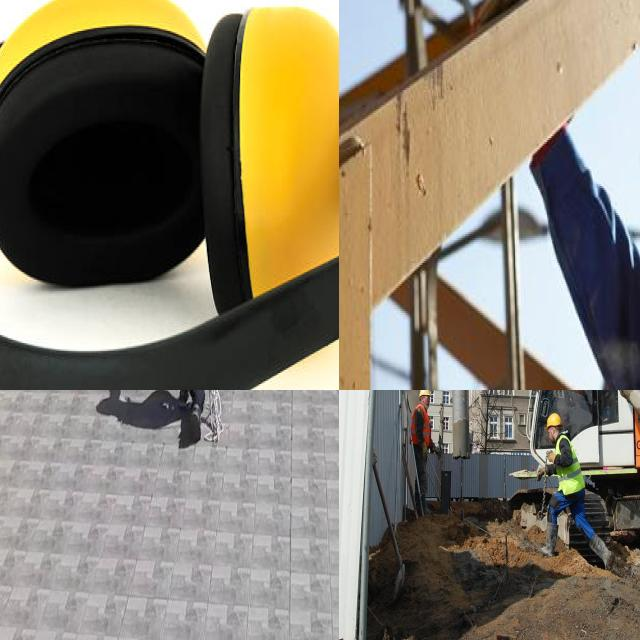Ear-protection: (0, 0, 339, 390)
boots: (588, 532, 619, 575), (537, 521, 558, 558)
hand_glove: (419, 439, 432, 462), (432, 439, 445, 458)
hand_noglove: (547, 447, 554, 465)
head_helmet: (544, 412, 564, 430), (418, 390, 431, 398)
person: (544, 413, 614, 570), (408, 390, 432, 516)
vest: (558, 440, 582, 497), (415, 404, 431, 442)
